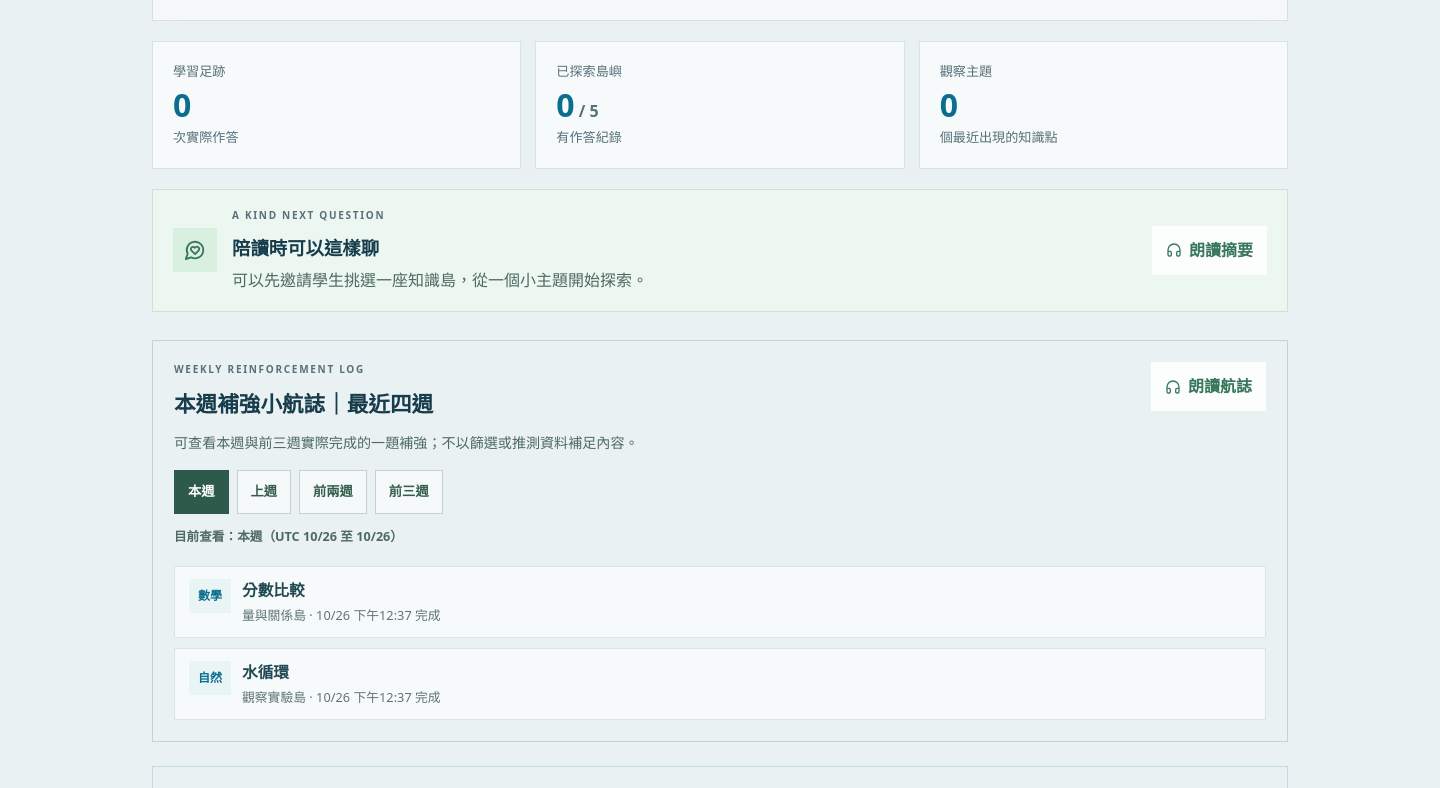
it: TeacherParentSummary › shows verified current-week reinforcement entries for family review and reads the journal
(page scrolled)
Expected: the element with test id "supporter-reinforcement-journal" shows "本週補強小航誌", [174,389,433,418]
Expected: the element with test id "supporter-reinforcement-journal" shows "分數比較", [242,579,305,601]
Click the button with aria-label "朗讀本週補強小航誌". click: (1208, 387)
box: [1151,362,1266,411]
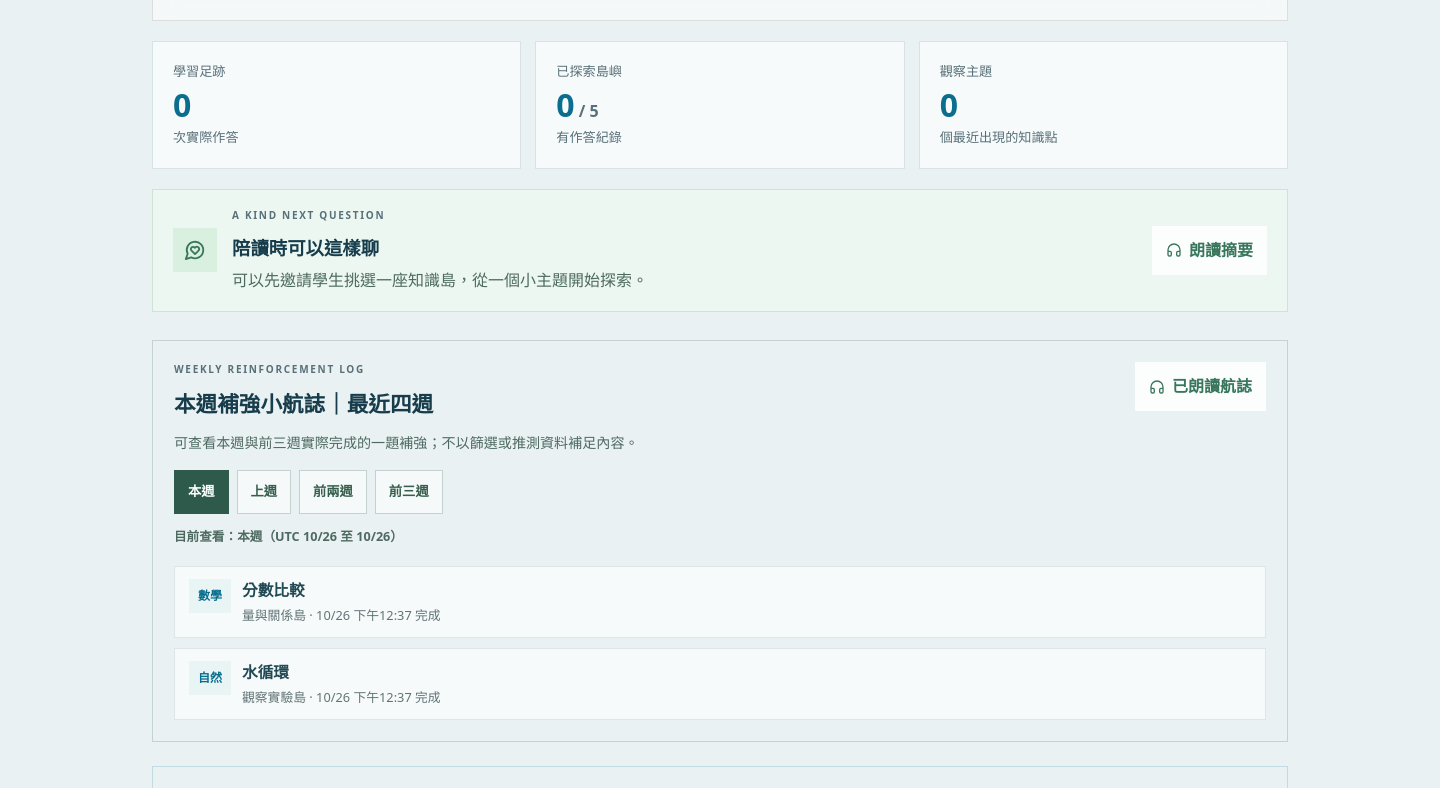
Result: the button with aria-label "朗讀本週補強小航誌" reads "已朗讀航誌" at [1135,362,1266,411]
